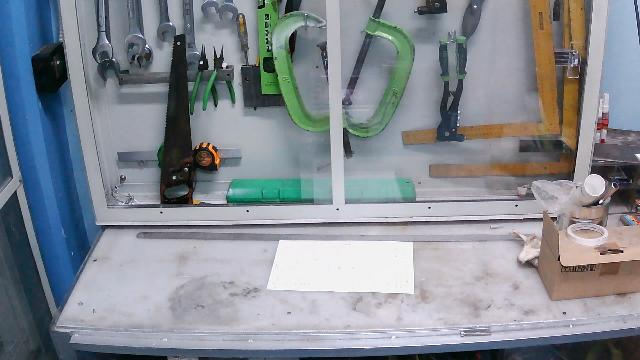tang_cucut_lancip_1: (208, 43, 237, 112)
